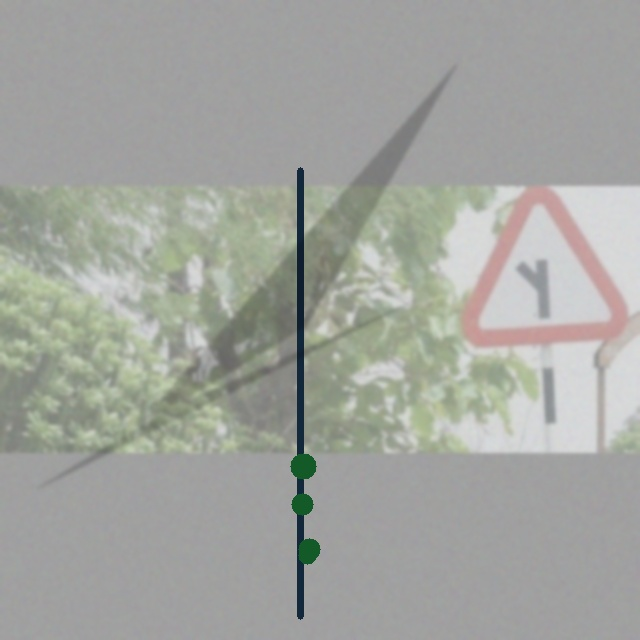Y_Intersection: (467, 191, 619, 346)
